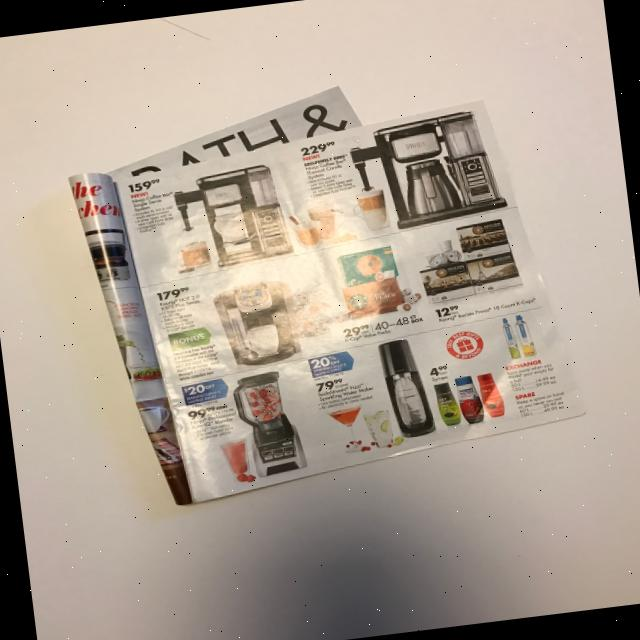paper: (71, 61, 591, 512)
